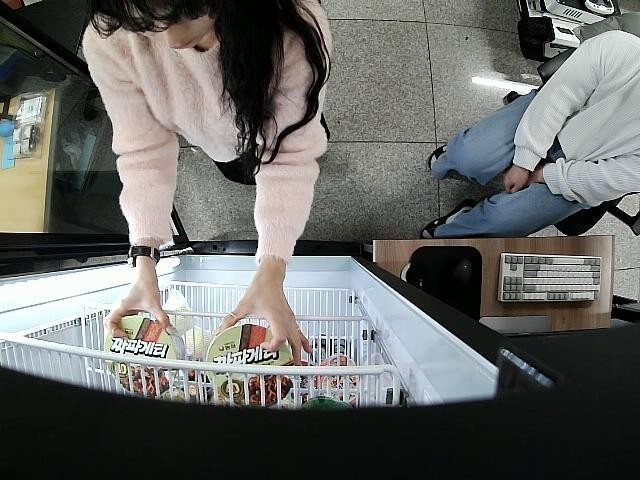03_chapagetti_L: (205, 326, 294, 406), (103, 316, 182, 393)
